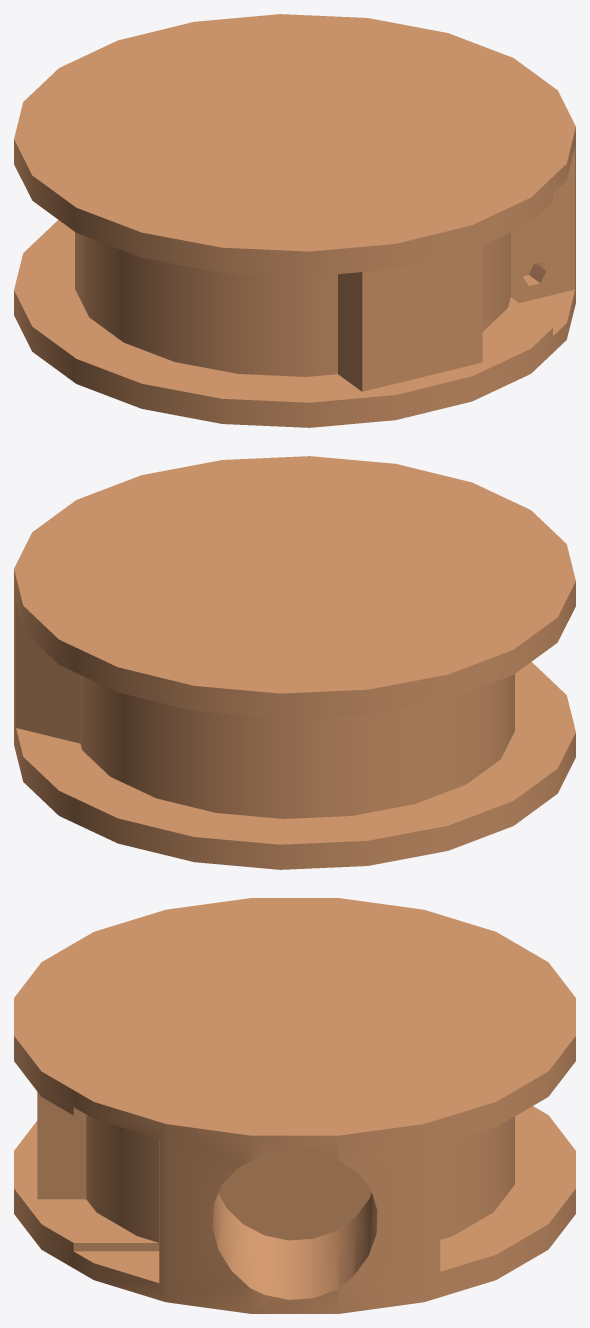
3 views of the same model, one above another, from view 1: azimuth 30°, elevation 25°; view 2: azimuth 150°, elevation 25°; view 3: azimuth 270°, elevation 25° (orthographic).
Visible parts, largest first — view 1: IRB2400_16_m2000_rev4_01-7; view 2: IRB2400_16_m2000_rev4_01-7; view 3: IRB2400_16_m2000_rev4_01-7.
Boxes of the visible parts, x1=… form: IRB2400_16_m2000_rev4_01-7: x1=14, y1=14, x2=575, y2=427; IRB2400_16_m2000_rev4_01-7: x1=14, y1=456, x2=575, y2=869; IRB2400_16_m2000_rev4_01-7: x1=14, y1=898, x2=575, y2=1313.
Bounding box in the file's own units: 0.12 × 0.042 × 0.12.
